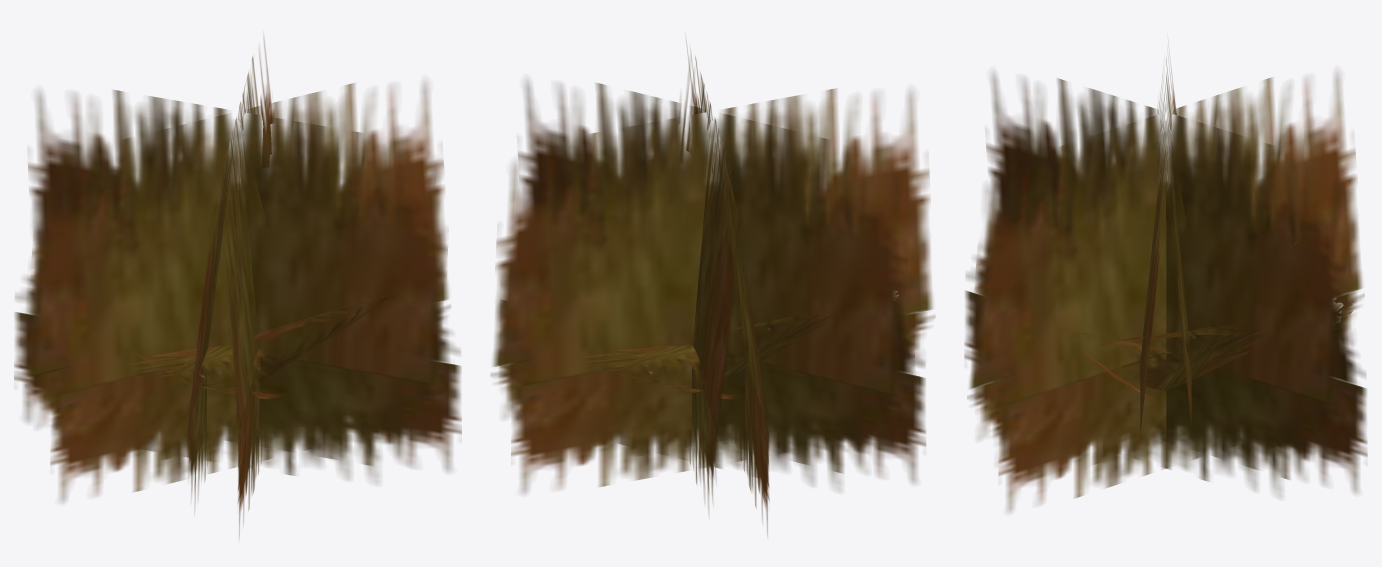
File: Grass01.glb
3 renders of one model, left to right at view 1: azimuth 30°, elevation 25°; view 2: azimuth 150°, elevation 25°; view 3: azimuth 270°, elevation 25°, orthographic.
Parts seen in each view (by area): view 1: Grass01; view 2: Grass01; view 3: Grass01.
Part boxes in pixels (left/top/right/bottom): Grass01: left=14, top=40, right=461, bottom=536; Grass01: left=491, top=41, right=935, bottom=534; Grass01: left=964, top=58, right=1367, bottom=511.
Size of the model in its own units: 2.68 by 2.19 by 2.33.
1 material, 1 textured.
